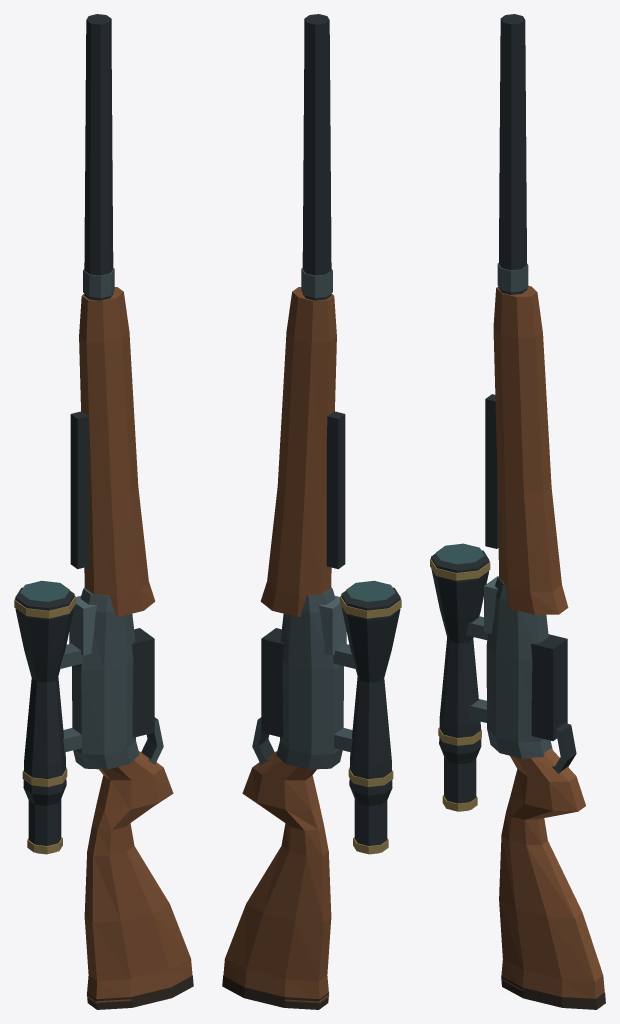
File: markswoman-rifle-v01.obj
3 views of the same model, side by side, from view 1: azimuth 30°, elevation 25°; view 2: azimuth 150°, elevation 25°; view 3: azimuth 330°, elevation 25° (orthographic). The views are drawn at different scales.
Parts seen in each view (by area): view 1: wood-stock, forestock, scope-body, receiver, barrel-silhouette, forestock-inlay, receiver-side, scope-rim, stock-butt, receiver-accent, scope-glass, scope-support (+2 smaller); view 2: wood-stock, forestock, scope-body, receiver, barrel-silhouette, forestock-inlay, receiver-side, scope-rim, stock-butt, receiver-accent, scope-glass, scope-support (+2 smaller); view 3: forestock, wood-stock, scope-body, receiver, barrel-silhouette, receiver-side, forestock-inlay, scope-rim, stock-butt, scope-glass, guard-outline, upper-band (+2 smaller).
Boxes of the visible parts, x1,y1,x2,y2 form: wood-stock: (84, 751, 192, 1003); forestock: (79, 287, 155, 616); scope-body: (15, 587, 74, 845); receiver: (72, 587, 139, 769); barrel-silhouette: (84, 14, 113, 300); forestock-inlay: (70, 411, 89, 569); receiver-side: (132, 628, 154, 737); scope-rim: (14, 596, 75, 853); stock-butt: (87, 975, 193, 1009); receiver-accent: (69, 596, 97, 655); scope-glass: (20, 580, 69, 854); scope-support: (59, 643, 83, 752); wood-stock: (223, 751, 331, 1003); forestock: (260, 287, 336, 616); scope-body: (341, 587, 400, 845); receiver: (276, 587, 343, 769); barrel-silhouette: (302, 14, 331, 300); forestock-inlay: (326, 411, 345, 569); receiver-side: (261, 628, 284, 737); scope-rim: (340, 596, 401, 853); stock-butt: (222, 975, 328, 1009); receiver-accent: (318, 596, 346, 655); scope-glass: (346, 580, 395, 854); scope-support: (333, 643, 356, 752); forestock: (493, 285, 568, 614); wood-stock: (499, 748, 604, 998); scope-body: (431, 550, 489, 803); receiver: (486, 576, 552, 758); barrel-silhouette: (498, 14, 527, 294); receiver-side: (531, 634, 567, 740); forestock-inlay: (485, 394, 498, 548); scope-rim: (430, 558, 490, 811); stock-butt: (501, 976, 605, 1009); scope-glass: (436, 543, 484, 811); guard-outline: (551, 722, 576, 773); upper-band: (497, 263, 528, 292).
Size of the model in its own units: 0.5648 by 3.15 by 0.1663.
